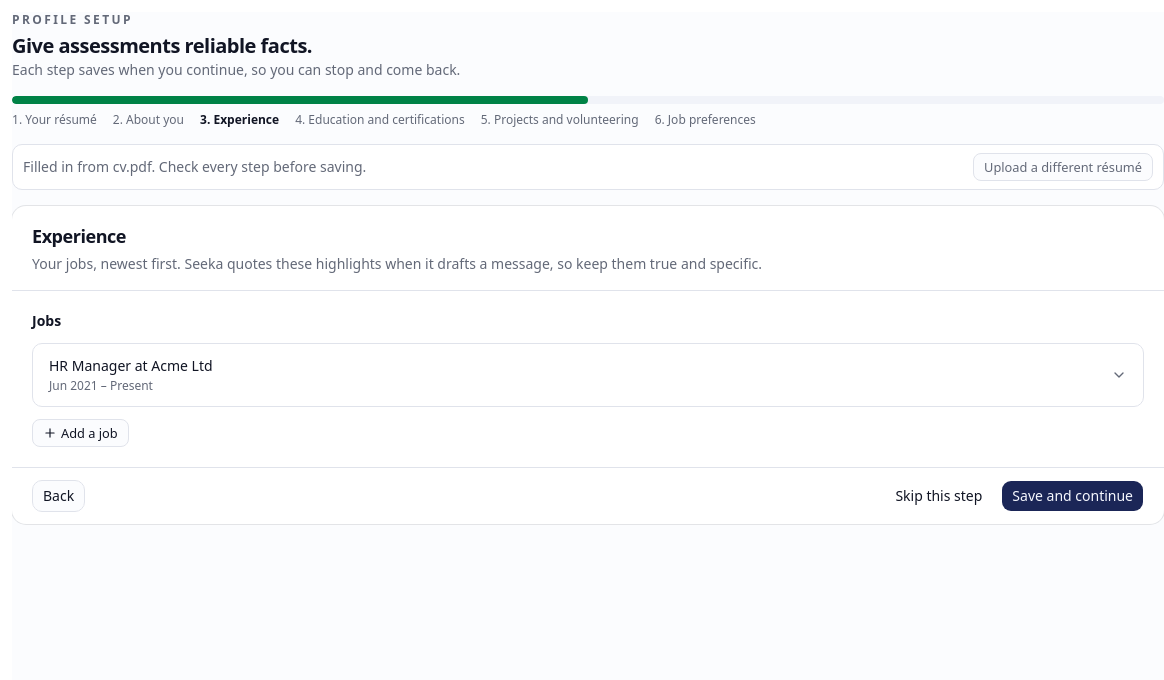
OnboardingPage › steps › shows a server error under the field it names
The image size is (1164, 680).
Click the button "Save and continue".
click(1073, 496)  # box x1=1001 y1=480 x2=1144 y2=512
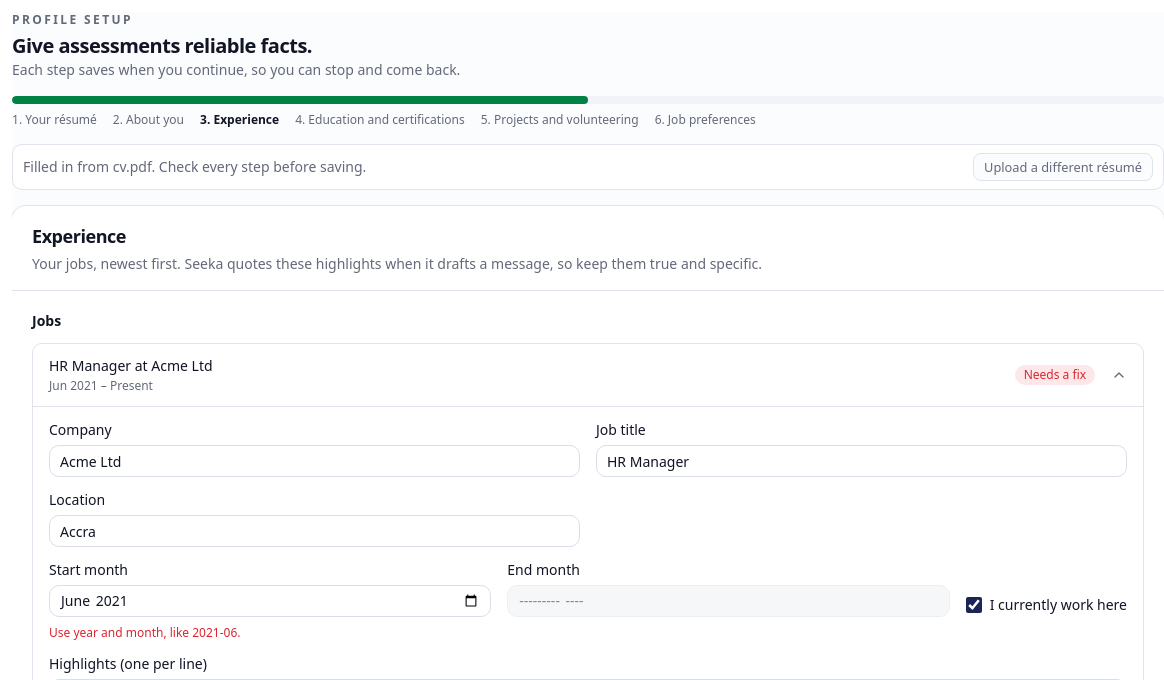
Expected: the heading "Experience" is shown, x1=32 y1=224 x2=126 y2=248
Result: the text "Use year and month, like 2021-06." is shown at x1=49 y1=624 x2=240 y2=641
Result: the button "HR Manager at Acme Ltd Jun 2021 – Present Needs a fix" is expanded at x1=33 y1=344 x2=1143 y2=406
